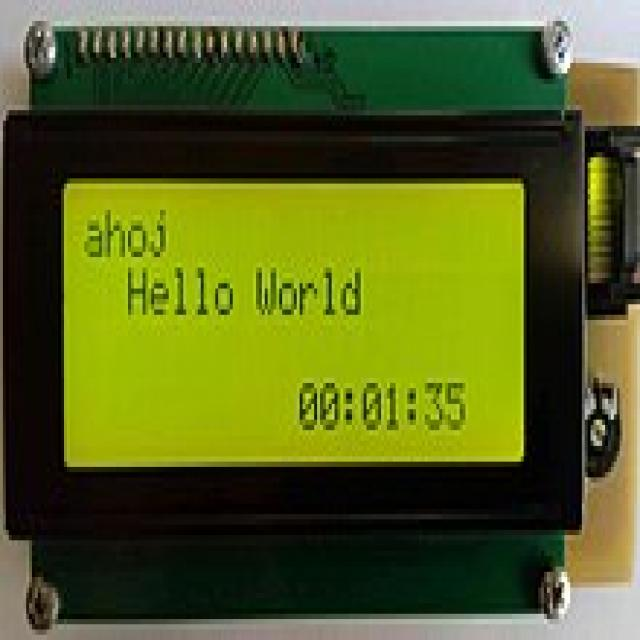Display: (0, 21, 639, 634)
